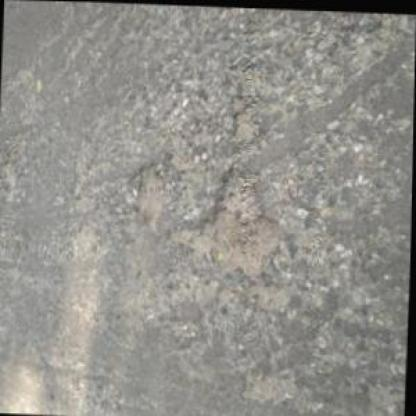pothole: (189, 160, 284, 278), (132, 160, 169, 230), (230, 98, 257, 141)
